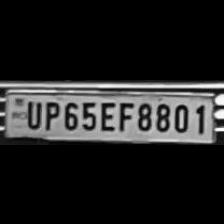0: (169, 100, 189, 132)
1: (190, 100, 208, 132)
5: (78, 97, 98, 130)
6: (60, 97, 78, 130)
8: (153, 98, 171, 132), (134, 99, 152, 131)
E: (99, 99, 116, 131)
F: (114, 98, 132, 132)
P: (42, 97, 60, 129)
U: (22, 97, 42, 128)
